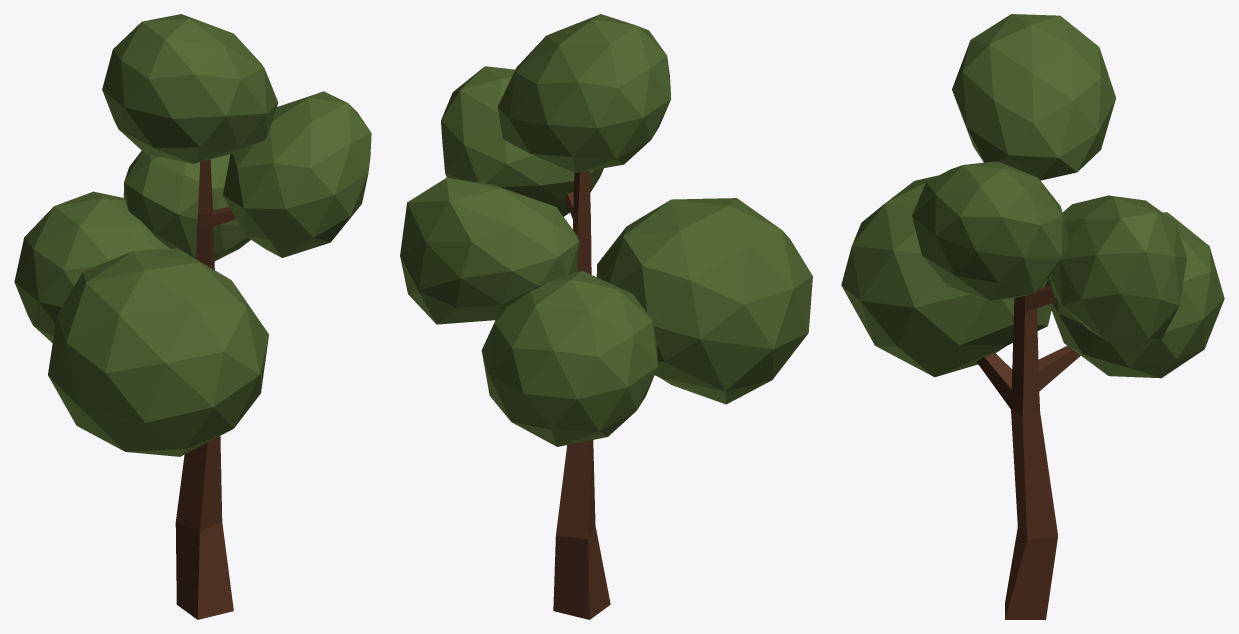
The model's file is OakTree_03.fbx.
3 renders of one model, left to right at view 1: azimuth 30°, elevation 25°; view 2: azimuth 150°, elevation 25°; view 3: azimuth 270°, elevation 25°, orthographic. The views are drawn at different scales.
Parts seen in each view (by area): view 1: OakTree2; view 2: OakTree2; view 3: OakTree2.
Boxes of the visible parts, box(x1,y1,x2,y2) form: OakTree2: box(14, 14, 371, 619); OakTree2: box(400, 14, 812, 619); OakTree2: box(841, 14, 1224, 619).
Size of the model in its own units: 427 by 763 by 458.
